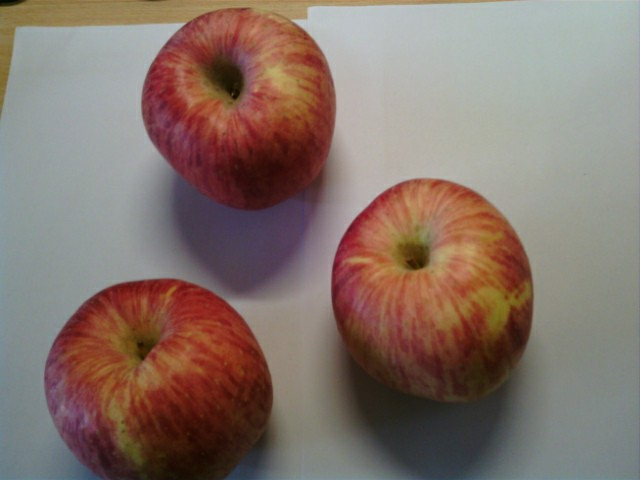normal_apple: (43, 278, 273, 480), (331, 178, 537, 403), (140, 4, 337, 210)
